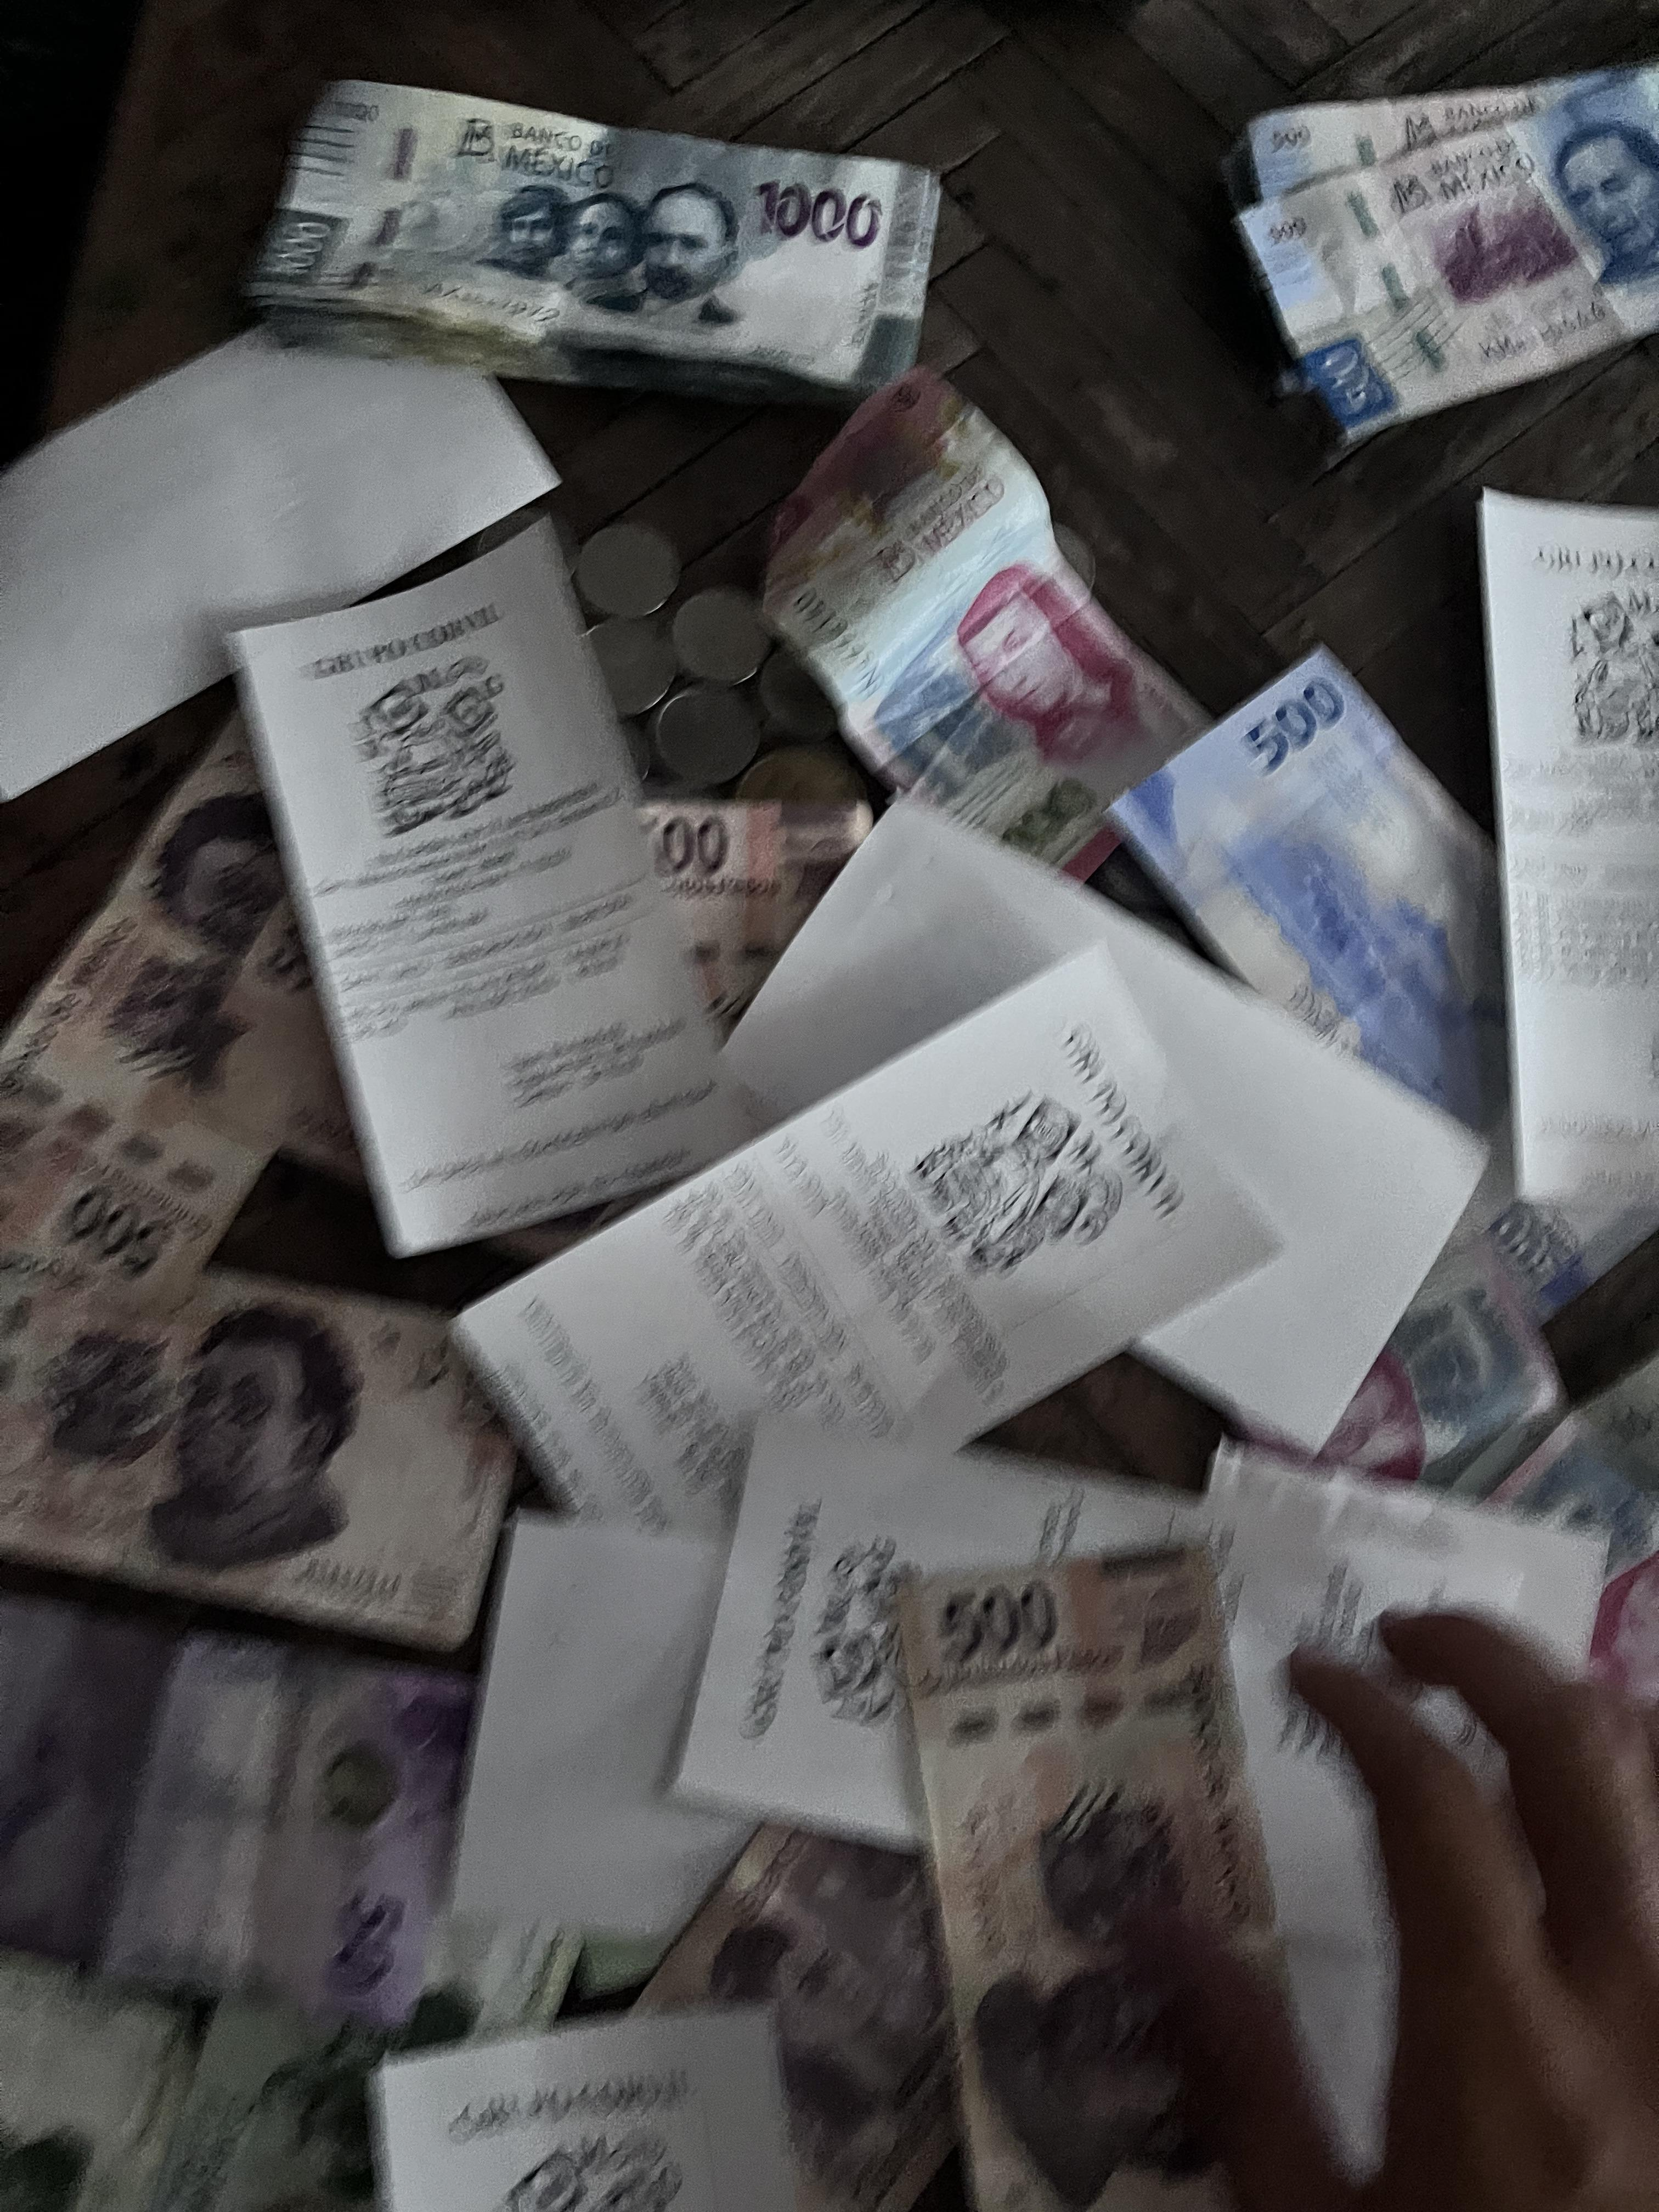100: (769, 364, 1209, 914)
1000: (211, 68, 979, 418)
50: (0, 1601, 479, 2003)
500: (878, 1536, 1291, 2212), (0, 674, 333, 1353), (0, 1233, 525, 1656), (647, 1789, 1016, 2212), (498, 772, 911, 1049)
500 nuevo: (1080, 643, 1659, 1320), (1239, 96, 1659, 432)
